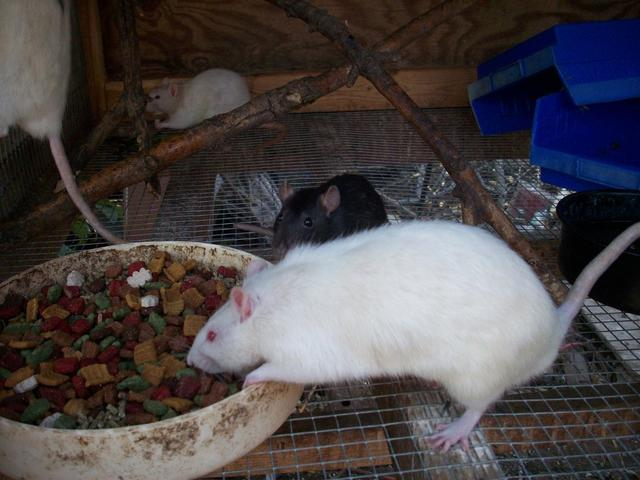mouse: (144, 185, 617, 444), (125, 49, 271, 142)
